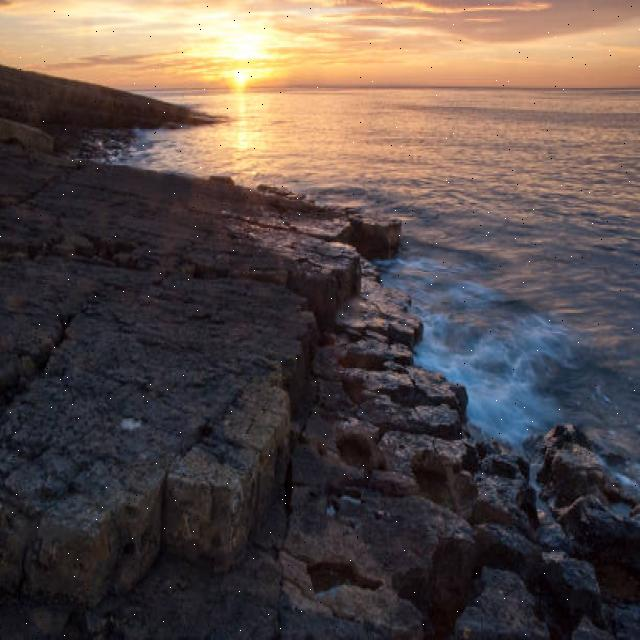Sedimentary: (2, 151, 640, 637)
